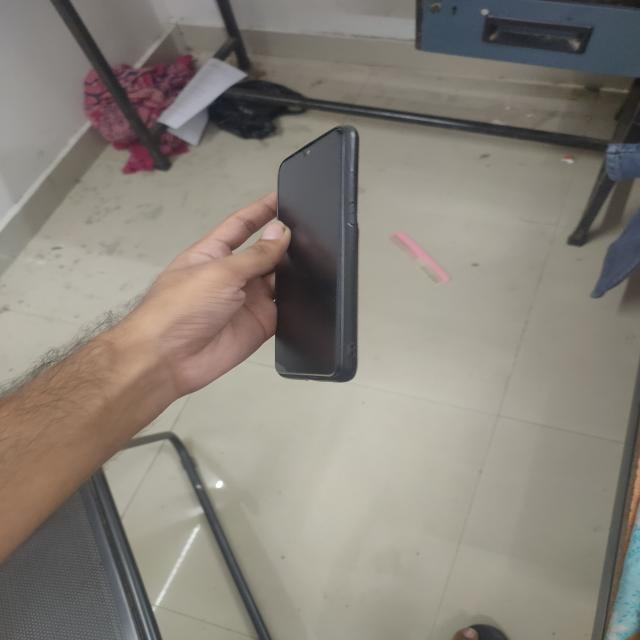Phone: (272, 123, 364, 386)
